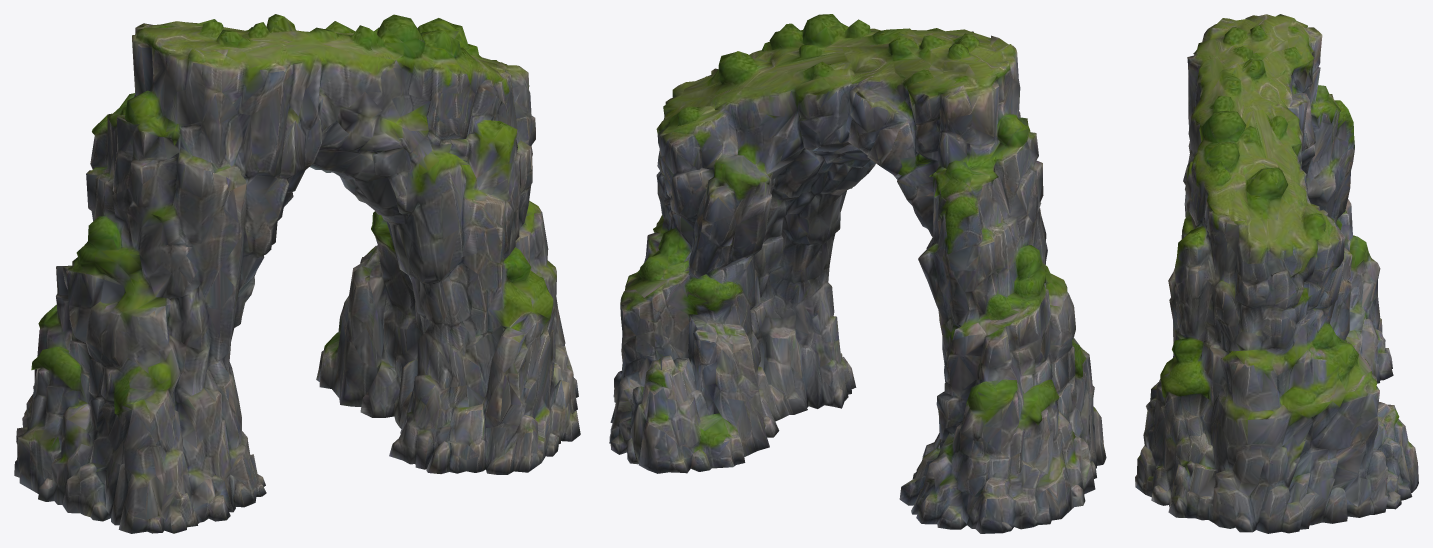
The model's file is sea_arch.glb.
3 views of the same model, side by side, from view 1: azimuth 30°, elevation 25°; view 2: azimuth 150°, elevation 25°; view 3: azimuth 270°, elevation 25° (orthographic). The views are drawn at different scales.
Visible parts, largest first — view 1: Model; view 2: Model; view 3: Model.
Boxes of the visible parts, x1,y1,x2,y2 form: Model: (14,14,580,533); Model: (609,14,1106,533); Model: (1135,14,1418,533).
Size of the model in its own units: 50 by 42.48 by 29.62.
1 material, 1 textured.
